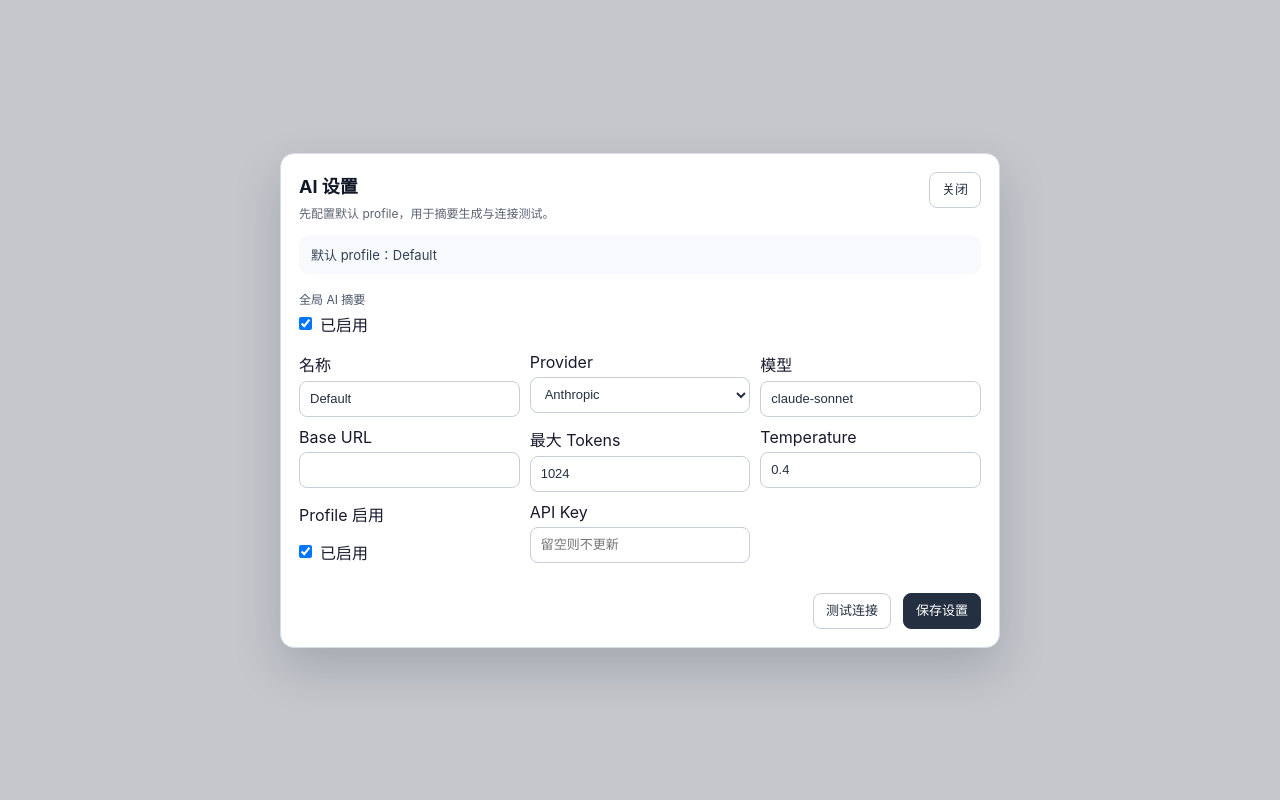
Test: AiSettingsDialog › shows a visible error when secret persistence verification fails after save
Replace the text in the field labelled "模型" with "claude-3-7-sonnet" at (871, 398), box [760, 380, 981, 416]
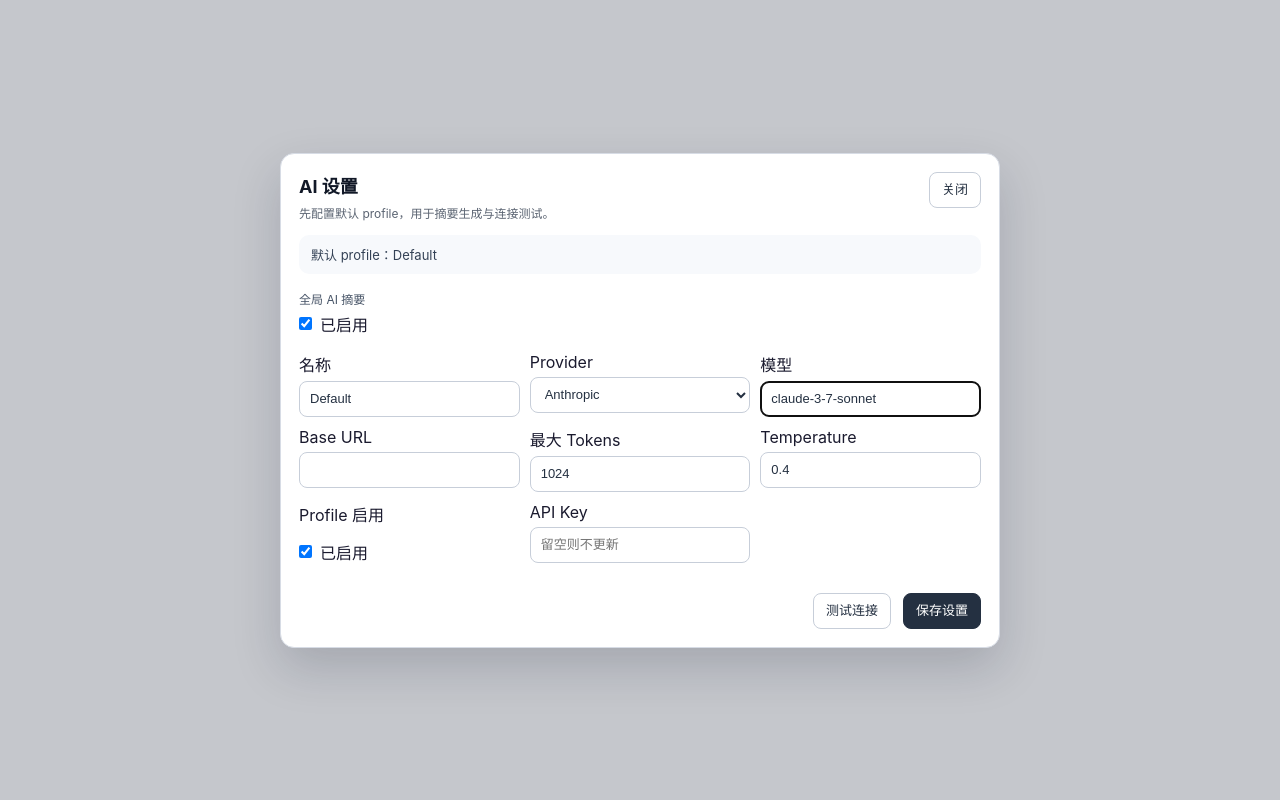
Type "sk-test" into the password field labelled "API Key".
click(640, 544); type("sk-test")  # box [530, 526, 750, 562]
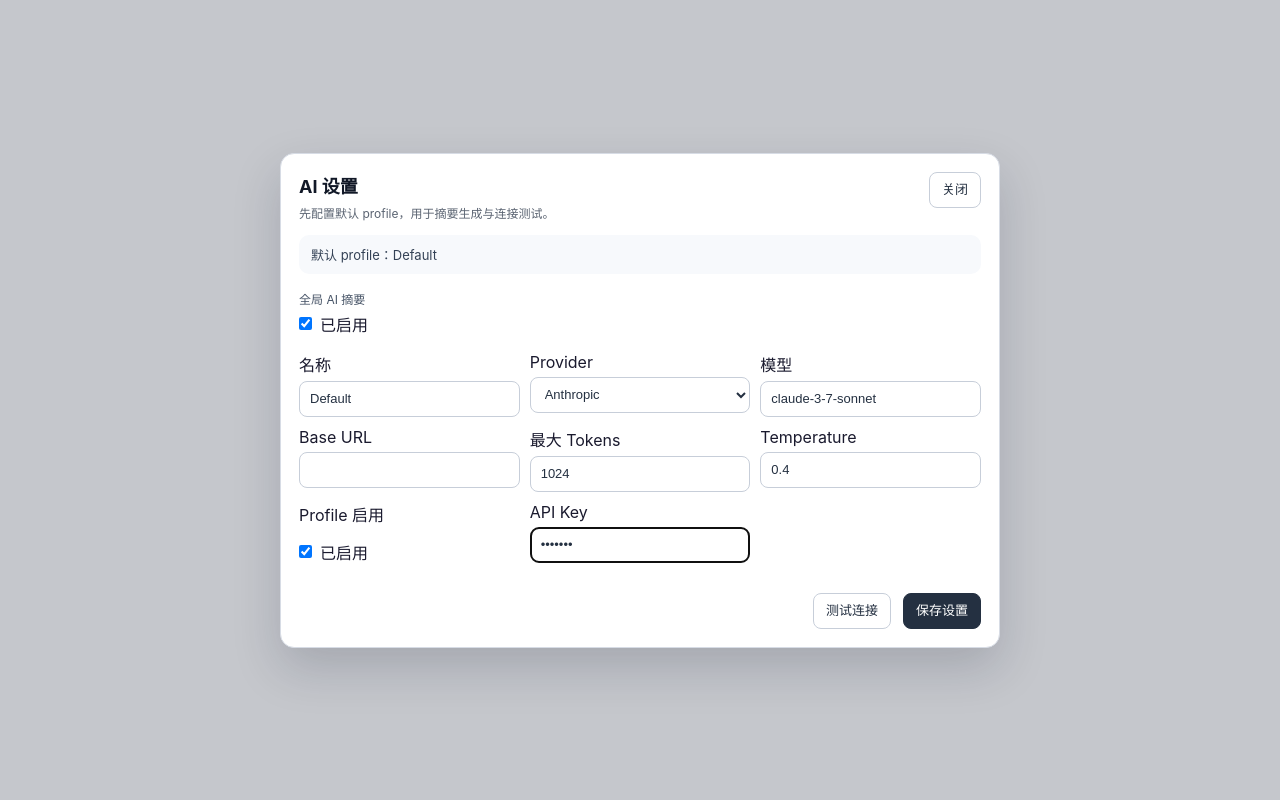
Click the button "保存设置".
click(942, 610)  # box [903, 592, 981, 628]
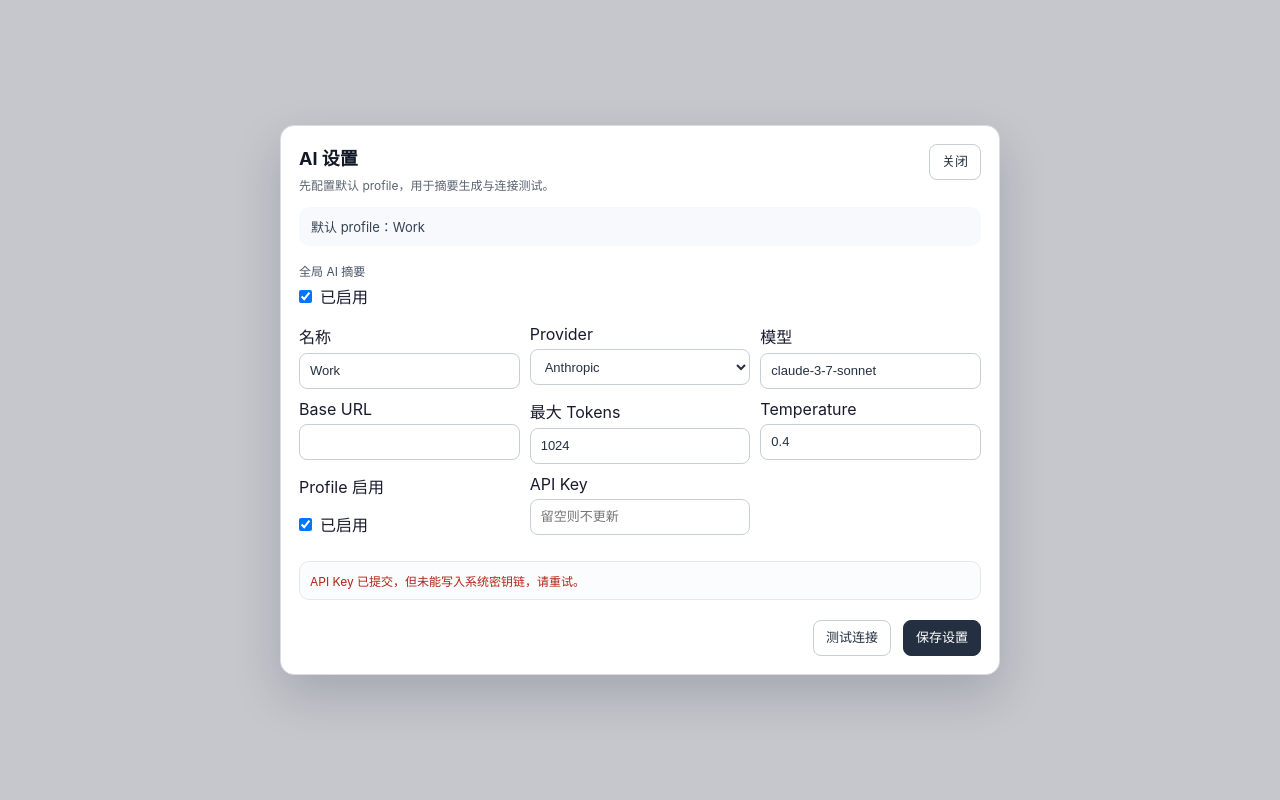
Check: the text "API Key 已提交，但未能写入系统密钥链，请重试。" is shown, box [310, 574, 585, 589]
